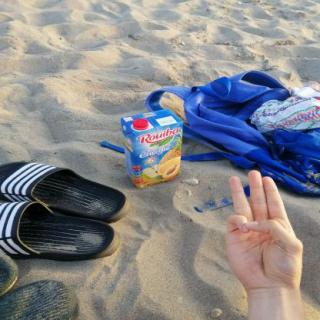THA: (213, 162, 313, 296)
